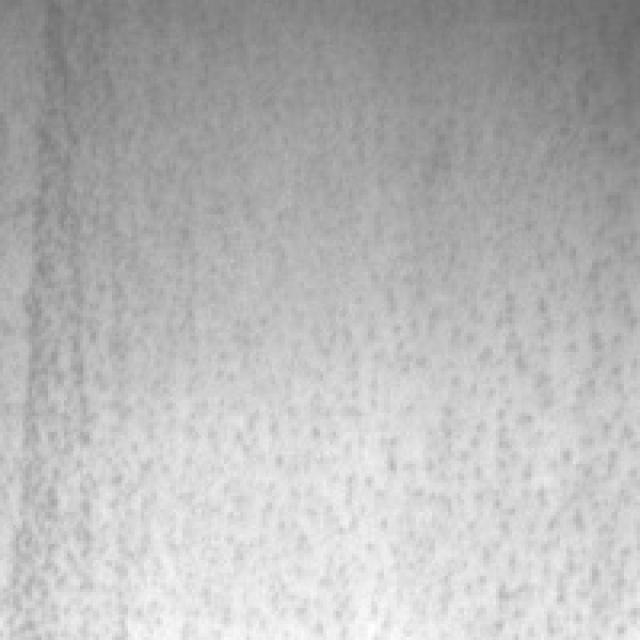pitted_surface: (80, 179, 624, 637), (16, 0, 106, 634)
